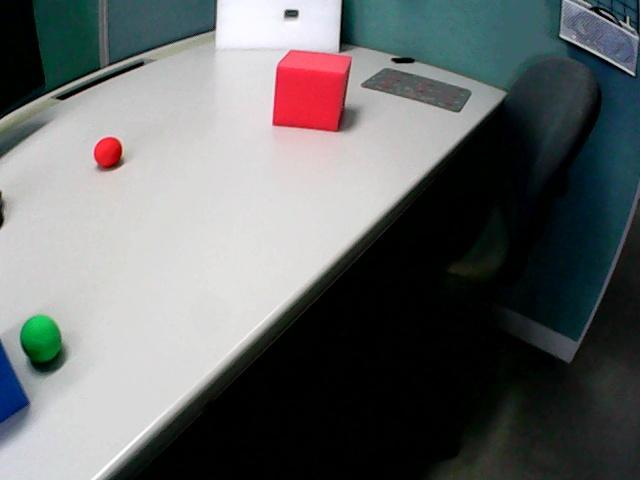blue_block: (0, 342, 28, 421)
red_block: (273, 50, 351, 130)
